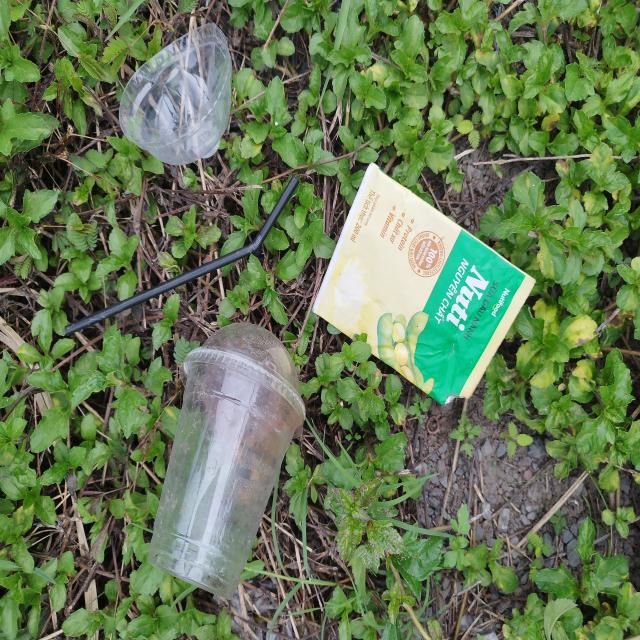drinking straw: (64, 173, 300, 335)
lid: (118, 22, 235, 166)
packet: (313, 163, 536, 404)
plastic glass: (148, 323, 306, 596)
